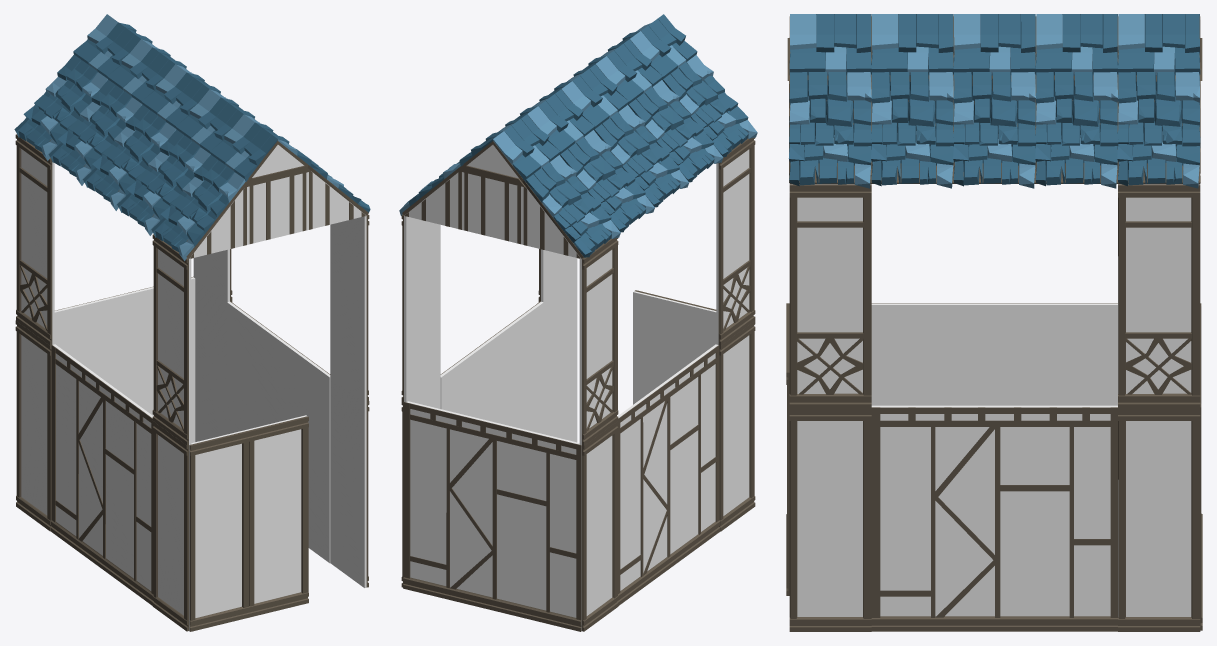
The model's file is House_08_parts.fbx.
The picture shows the model from 3 angles, left to right: view 1: azimuth 30°, elevation 25°; view 2: azimuth 150°, elevation 25°; view 3: azimuth 270°, elevation 25°; orthographic projection. The views are drawn at different scales.
Visible parts, largest first — view 1: WALL_05_2, WALL_05_4, WALL_03_4, WALL_03_3, WALL_05_3, WALL_04_6, WALL_04_5, WALL_03_7, WALL_03_5, WALL_03_6, WALL_04_3, WALL_03_8 (+16 smaller); view 2: WALL_05_3, WALL_05_2, WALL_05_4, WALL_04_5, WALL_04_6, WALL_03_6, WALL_03_5, WALL_04_4, WALL_03_3, WALL_03_7, ROOF_base_12, ROOF_base_10 (+16 smaller); view 3: WALL_05_4, WALL_05_2, WALL_04_4, WALL_04_3, WALL_03_7, WALL_03_8, ROOF_base_7, ROOF_base_3, ROOF_base_4, ROOF_base_5, ROOF_base_6, ROOF_base_small_5 (+6 smaller).
Boxes of the visible parts, x1,y1,x2,y2 form: WALL_05_2: (50, 344, 153, 605); WALL_05_4: (227, 301, 330, 563); WALL_03_4: (189, 429, 249, 631); WALL_03_3: (247, 415, 308, 617); WALL_05_3: (17, 276, 195, 501); WALL_04_6: (152, 234, 191, 445); WALL_04_5: (15, 134, 54, 345); WALL_03_7: (330, 377, 369, 587); WALL_03_5: (152, 421, 189, 631); WALL_03_6: (15, 320, 51, 531); WALL_04_3: (330, 214, 369, 402); WALL_03_8: (195, 278, 232, 441); WALL_05_3: (403, 401, 581, 631); WALL_05_2: (617, 344, 720, 605); WALL_05_4: (440, 301, 543, 434); WALL_04_5: (579, 238, 618, 445); WALL_04_6: (716, 137, 755, 345); WALL_03_6: (581, 421, 618, 631); WALL_03_5: (719, 321, 755, 531); WALL_04_4: (401, 214, 440, 402); WALL_03_3: (633, 290, 694, 404); WALL_03_7: (538, 277, 577, 442); ROOF_base_12: (522, 155, 620, 258); ROOF_base_10: (594, 105, 688, 207); WALL_05_4: (871, 405, 1117, 631); WALL_05_2: (871, 303, 1117, 405); WALL_04_4: (1118, 184, 1200, 408); WALL_04_3: (789, 184, 871, 408); WALL_03_7: (789, 408, 871, 631); WALL_03_8: (1118, 408, 1200, 631); ROOF_base_7: (1117, 72, 1200, 188); ROOF_base_3: (788, 71, 871, 188); ROOF_base_4: (871, 72, 953, 188); ROOF_base_5: (953, 71, 1036, 188); ROOF_base_6: (1035, 71, 1118, 188); ROOF_base_small_5: (871, 14, 953, 75).
Bounding box in the file's own units: 320 × 759 × 507.
